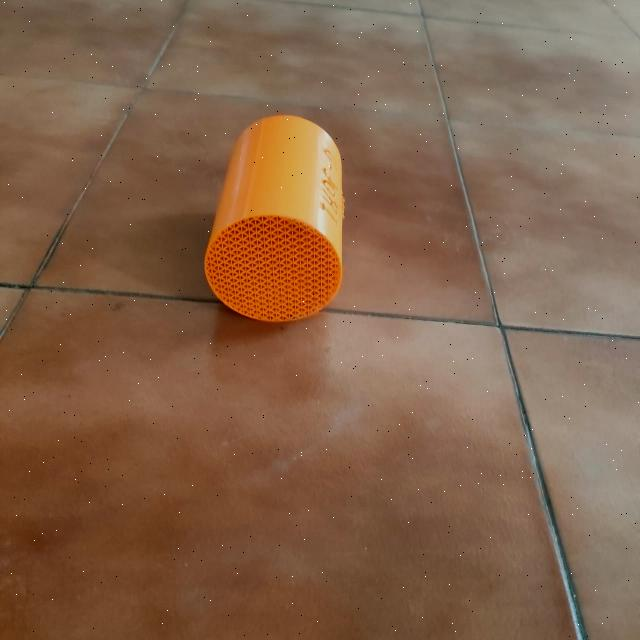Cylinder: (204, 113, 346, 323)
